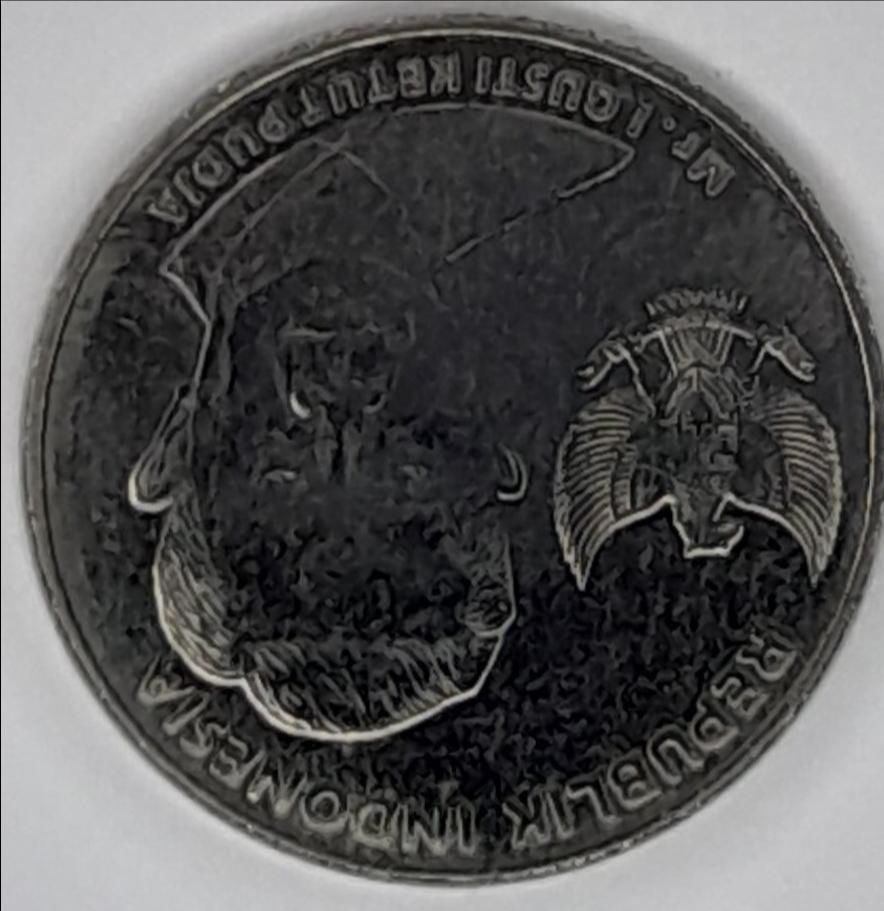coin_1000_e2016: (15, 18, 872, 911)
